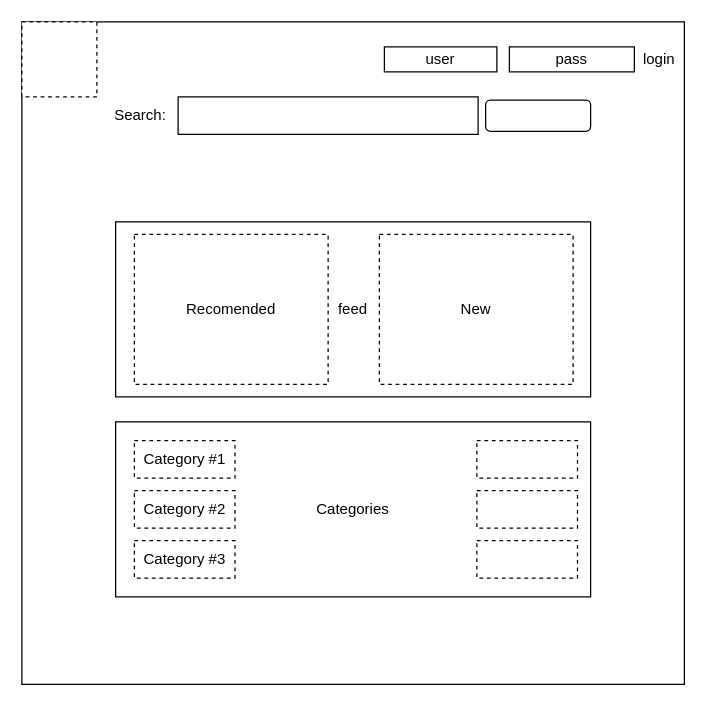
Image size: 706x706. Some labels were removed from this diagram. The shapes that lost their labels are listed below. From the top down, each one's centre as x and y in pixels, then its label:
At point (59, 59): "Logo".
At point (537, 115): "search".
